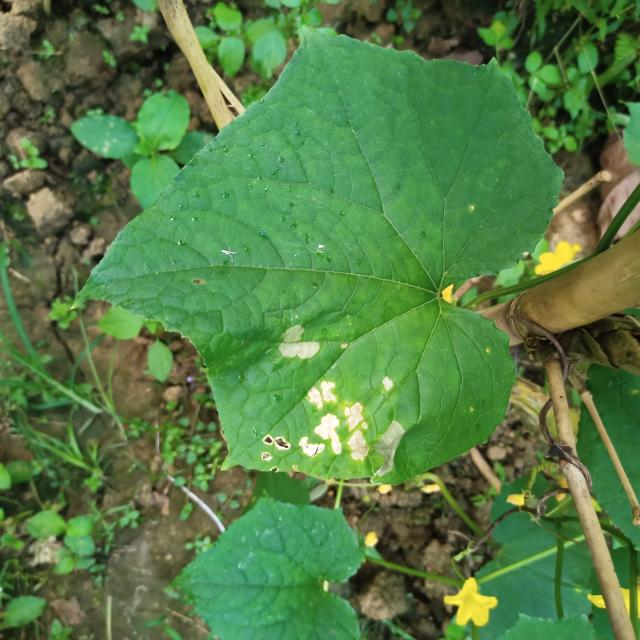disease_cucumber: (260, 374, 405, 479), (278, 322, 322, 364)
